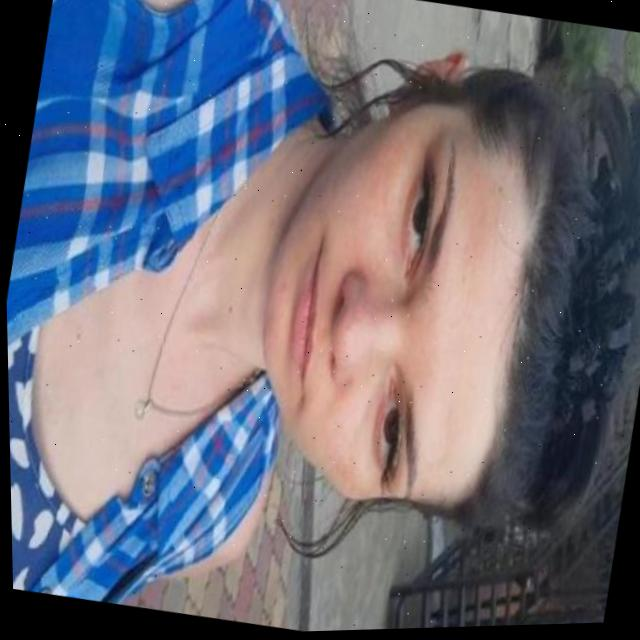Acne: (355, 127, 414, 216)
